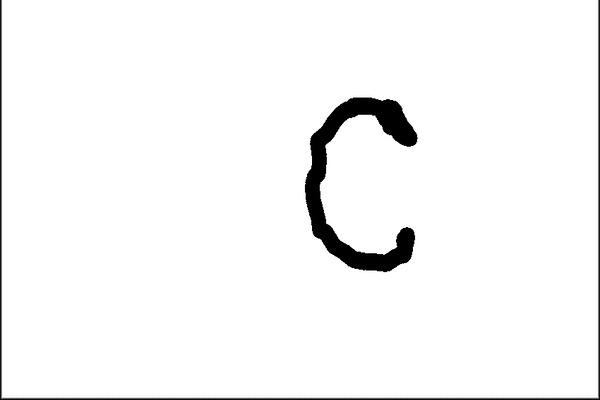C: (299, 91, 426, 278)
